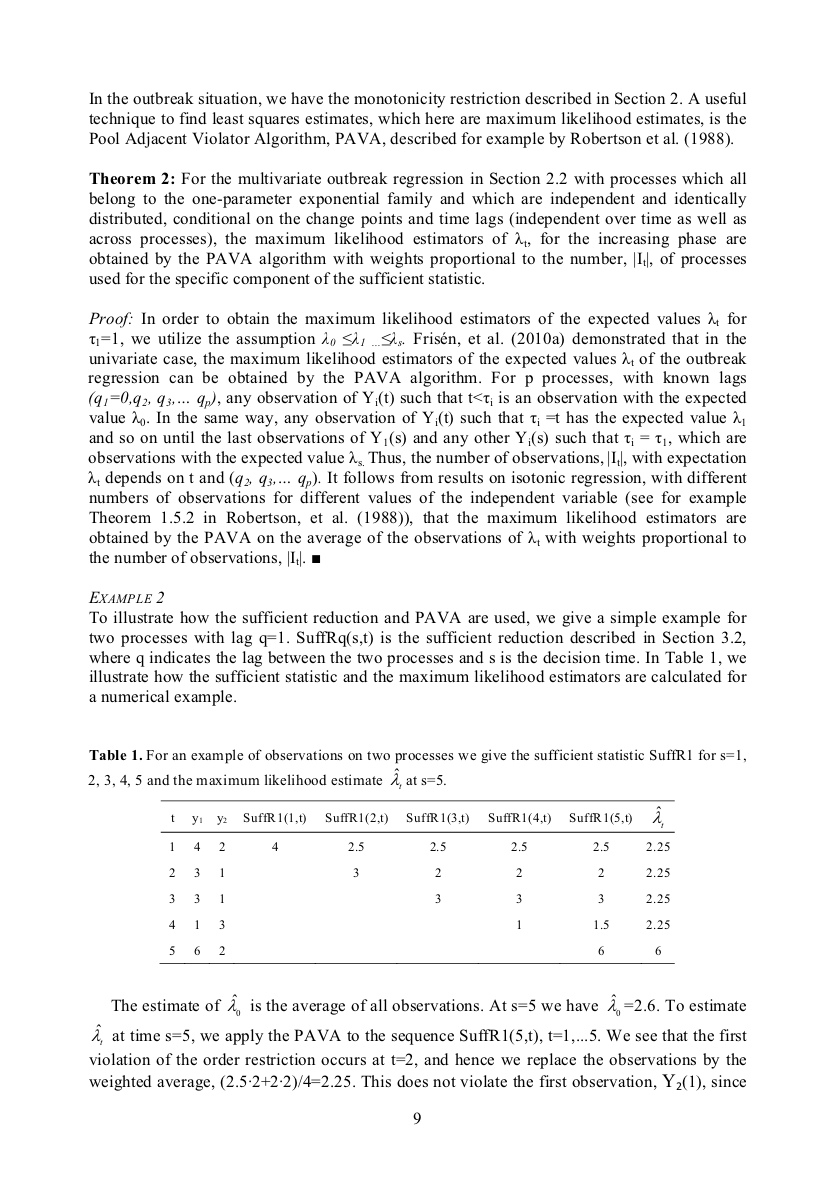Table: (159, 800, 674, 963)
